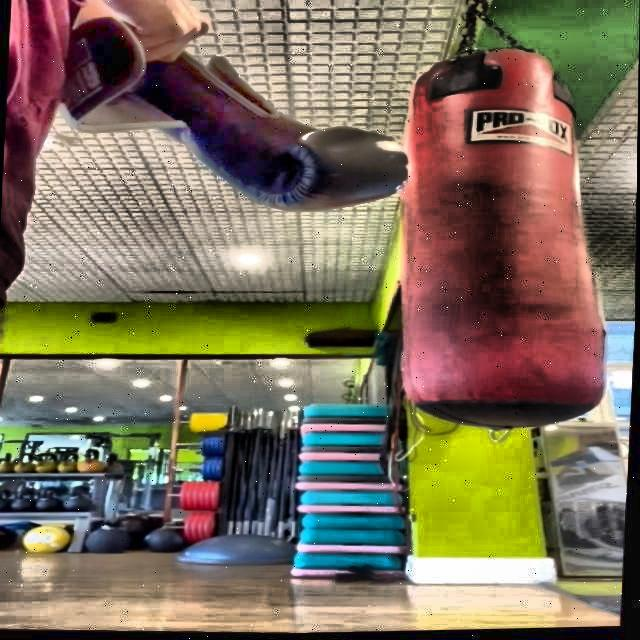boxing-bag: (397, 0, 621, 439)
